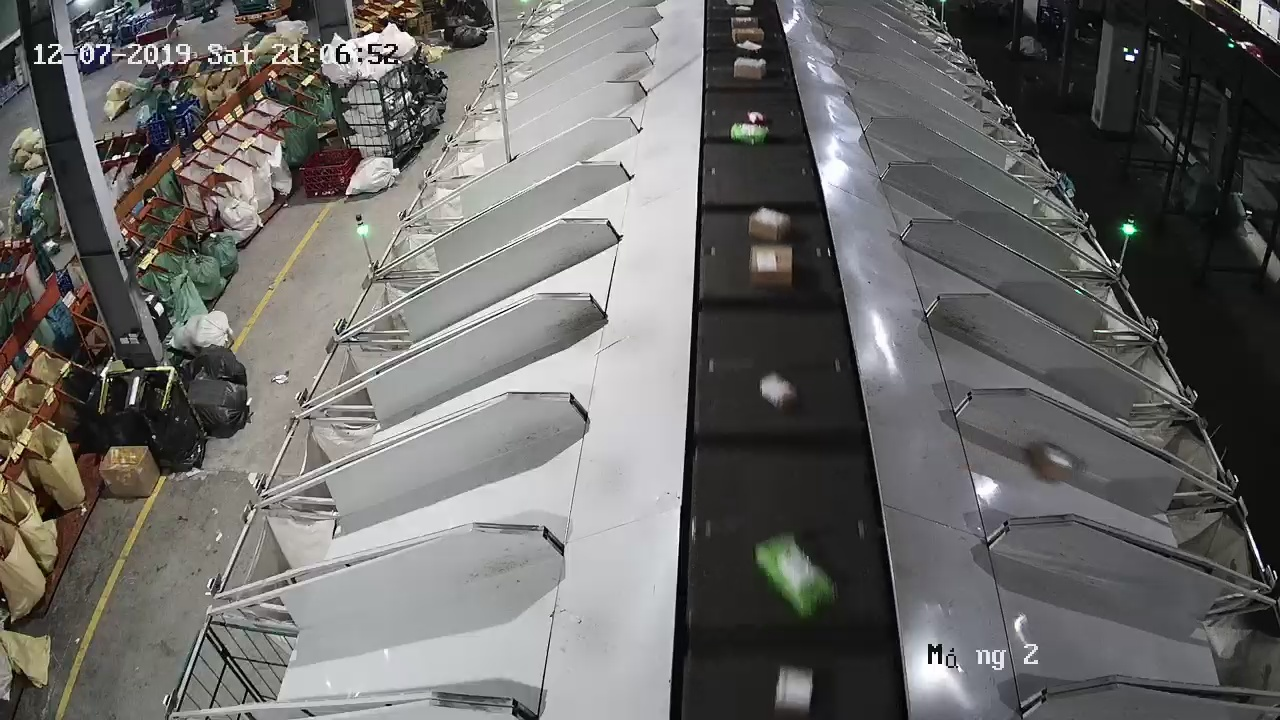parcel: (1032, 440, 1078, 483)
